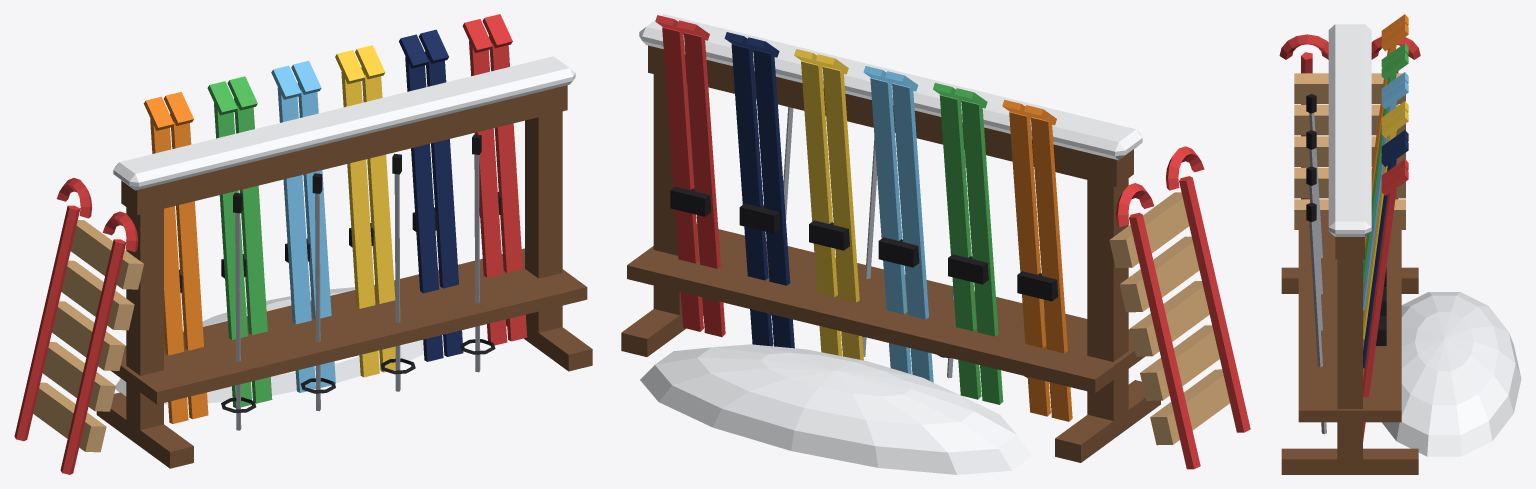
Rendered from SkiRack.fbx.
The picture shows the model from 3 angles, left to right: view 1: azimuth 30°, elevation 25°; view 2: azimuth 150°, elevation 25°; view 3: azimuth 270°, elevation 25°; orthographic projection. The views are drawn at different scales.
Parts seen in each view (by area): view 1: SkiRack_WoodDark, SkiRack_Snow, SkiRack_Red, SkiRack_WoodLight, SkiRack_Navy, SkiRack_Yellow, SkiRack_Orange, SkiRack_Green, SkiRack_SkyBlue, SkiRack_Metal, SkiRack_Black; view 2: SkiRack_WoodDark, SkiRack_Snow, SkiRack_Red, SkiRack_WoodLight, SkiRack_Green, SkiRack_Orange, SkiRack_Navy, SkiRack_SkyBlue, SkiRack_Yellow, SkiRack_Black, SkiRack_Metal; view 3: SkiRack_Snow, SkiRack_WoodDark, SkiRack_WoodLight, SkiRack_Red, SkiRack_Metal, SkiRack_Navy, SkiRack_Yellow, SkiRack_SkyBlue, SkiRack_Green, SkiRack_Black, SkiRack_Orange.
Part boxes in pixels (<box>): SkiRack_WoodDark: <box>96,85,592,468</box>; SkiRack_Snow: <box>113,56,575,404</box>; SkiRack_Red: <box>14,14,527,474</box>; SkiRack_WoodLight: <box>33,220,143,452</box>; SkiRack_Navy: <box>399,29,463,361</box>; SkiRack_Yellow: <box>335,45,395,377</box>; SkiRack_Orange: <box>143,92,208,423</box>; SkiRack_Green: <box>207,76,272,408</box>; SkiRack_SkyBlue: <box>271,60,335,392</box>; SkiRack_Metal: <box>235,154,480,430</box>; SkiRack_Black: <box>179,134,501,412</box>; SkiRack_WoodDark: <box>621,45,1160,462</box>; SkiRack_Snow: <box>639,14,1142,474</box>; SkiRack_Red: <box>655,15,1250,469</box>; SkiRack_WoodLight: <box>1109,192,1229,445</box>; SkiRack_Green: <box>933,83,1003,404</box>; SkiRack_Orange: <box>1002,99,1072,421</box>; SkiRack_Navy: <box>724,32,794,348</box>; SkiRack_SkyBlue: <box>863,66,933,382</box>; SkiRack_Yellow: <box>794,49,863,360</box>; SkiRack_Black: <box>670,186,1058,377</box>; SkiRack_Metal: <box>783,107,1044,378</box>; SkiRack_Snow: <box>1328,24,1521,456</box>; SkiRack_WoodDark: <box>1281,215,1418,474</box>; SkiRack_WoodLight: <box>1294,73,1405,229</box>; SkiRack_Red: <box>1279,34,1420,441</box>; SkiRack_Metal: <box>1309,112,1326,434</box>; SkiRack_Navy: <box>1363,130,1408,368</box>; SkiRack_Yellow: <box>1363,101,1408,339</box>; SkiRack_SkyBlue: <box>1363,72,1408,310</box>; SkiRack_Green: <box>1363,43,1408,281</box>; SkiRack_Black: <box>1306,94,1386,345</box>; SkiRack_Orange: <box>1365,14,1408,248</box>.
Bounding box in the file's own units: 13.29 × 7.43 × 5.65.
